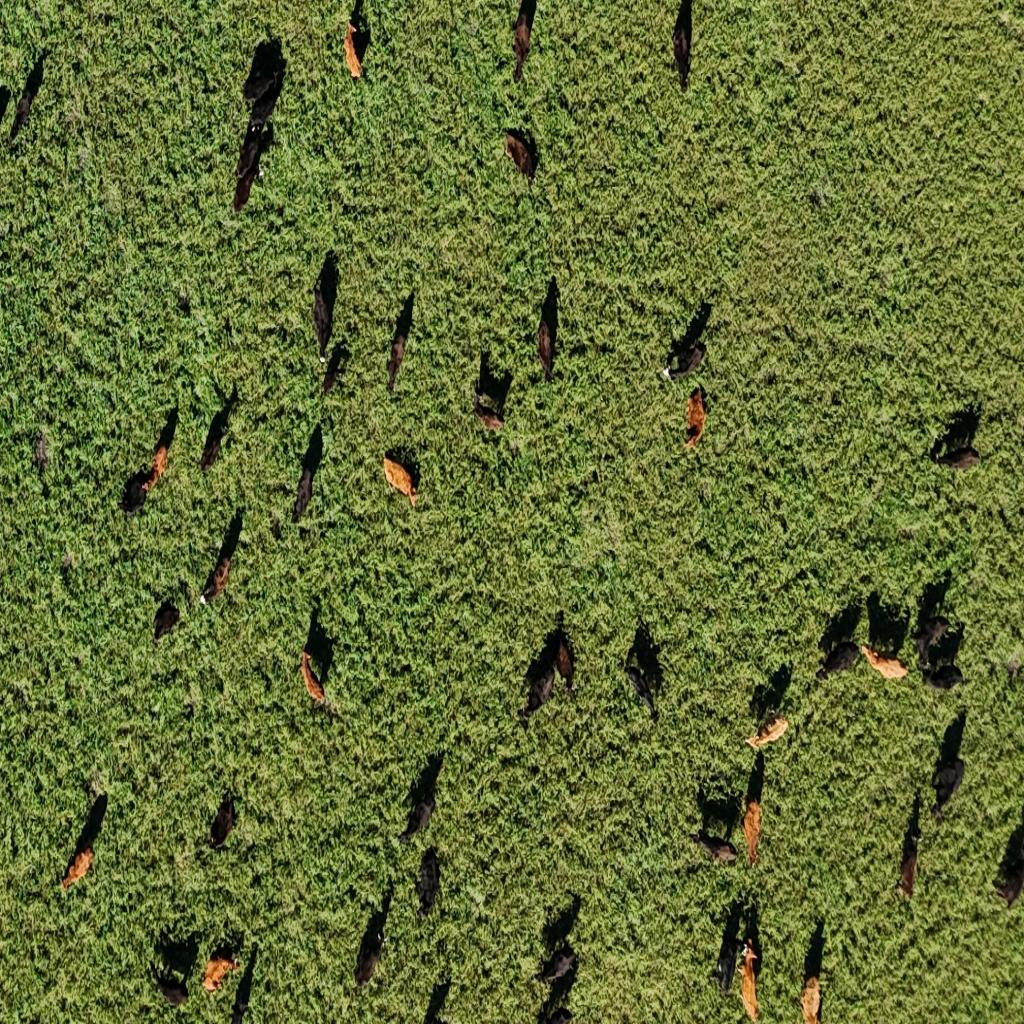cow: (523, 274, 576, 406), (59, 792, 107, 892), (233, 110, 275, 214), (8, 49, 48, 142), (200, 381, 241, 471), (991, 807, 1024, 906), (353, 902, 390, 990), (292, 424, 324, 522), (310, 249, 338, 358), (912, 601, 956, 667), (242, 39, 284, 108), (715, 906, 743, 998), (146, 954, 190, 1009), (897, 800, 921, 900), (669, 0, 694, 90), (622, 663, 658, 724), (510, 0, 537, 81), (230, 945, 258, 1023), (519, 666, 556, 724), (398, 794, 436, 850), (930, 757, 964, 818), (414, 847, 442, 921), (382, 454, 419, 510), (386, 316, 412, 395), (504, 127, 538, 186), (534, 944, 577, 990), (199, 552, 233, 610), (201, 948, 242, 996), (661, 343, 708, 383), (814, 642, 860, 682), (860, 645, 909, 682), (739, 941, 761, 1023), (744, 714, 788, 755), (208, 792, 238, 852), (691, 828, 738, 866), (119, 467, 153, 518), (299, 649, 327, 708), (320, 341, 350, 396), (682, 388, 706, 452), (919, 662, 964, 694), (472, 394, 506, 435), (151, 599, 180, 646), (742, 802, 762, 870), (934, 444, 982, 472), (342, 21, 364, 81), (798, 971, 822, 1024), (536, 992, 575, 1024), (32, 426, 52, 480)
